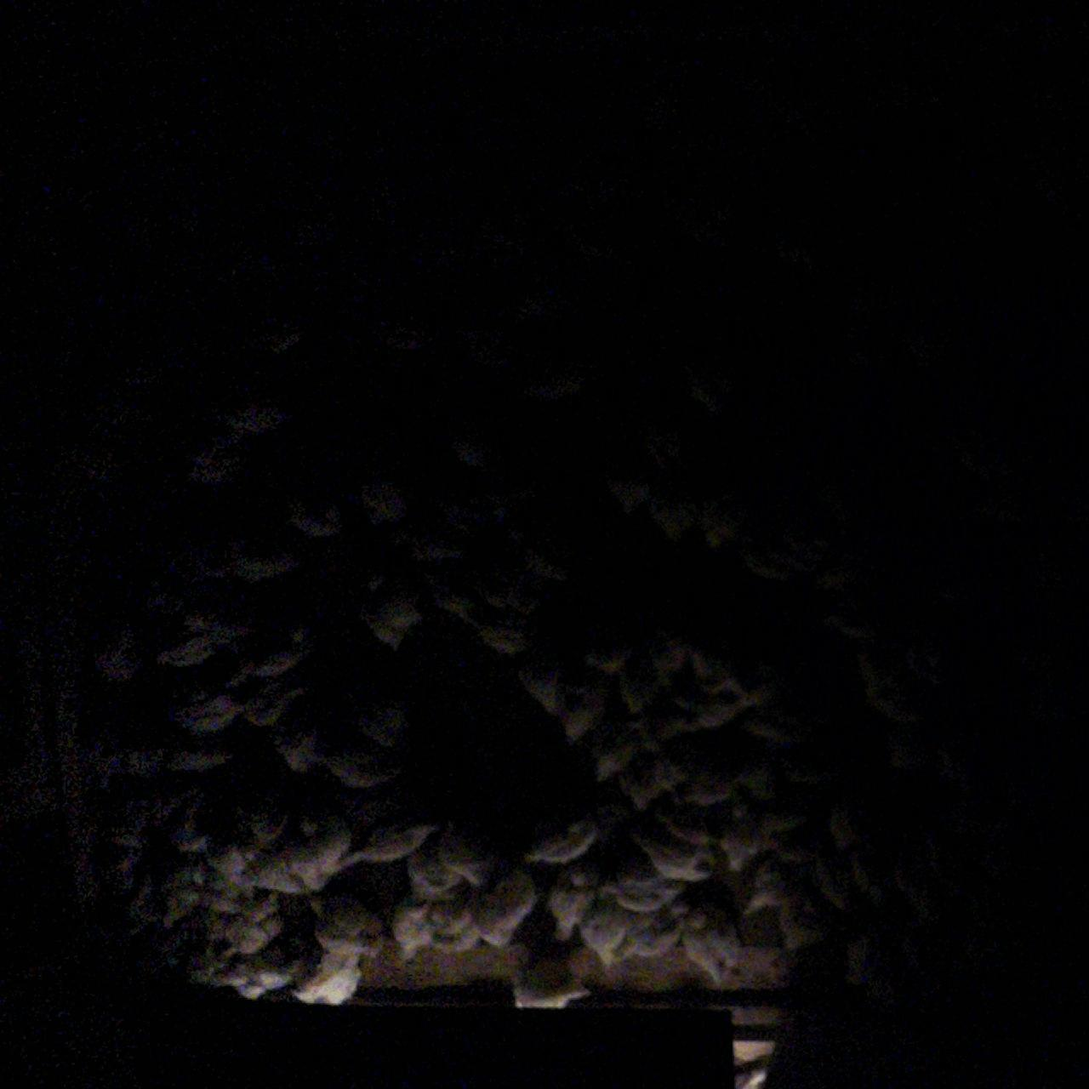chicken: (325, 808, 444, 874), (225, 625, 323, 691), (108, 743, 246, 786), (509, 939, 588, 1013), (718, 804, 800, 874), (286, 814, 358, 893), (629, 821, 717, 884), (308, 889, 389, 956), (540, 864, 607, 943), (207, 945, 301, 1001), (742, 849, 821, 914), (480, 865, 544, 945), (286, 945, 365, 1007), (217, 892, 285, 964), (699, 676, 787, 730), (855, 650, 920, 723), (523, 811, 607, 867), (94, 820, 150, 903), (898, 834, 953, 918), (680, 900, 738, 979), (387, 881, 443, 962), (157, 862, 227, 926), (125, 863, 182, 941), (577, 883, 631, 962), (318, 743, 405, 791), (428, 827, 501, 884), (241, 676, 314, 733), (164, 540, 244, 592), (169, 688, 249, 739), (621, 904, 692, 961), (737, 692, 817, 741), (470, 566, 541, 621), (774, 748, 850, 799), (176, 597, 261, 642), (557, 676, 614, 743), (942, 430, 1010, 486), (623, 752, 688, 810), (358, 593, 425, 649), (723, 943, 801, 991), (354, 693, 415, 754), (408, 837, 464, 903), (642, 619, 698, 685), (386, 515, 456, 567), (650, 484, 704, 551), (281, 487, 349, 540), (111, 792, 198, 833), (197, 837, 274, 883), (599, 867, 686, 907), (227, 539, 304, 582), (631, 411, 686, 471), (435, 897, 488, 959), (648, 704, 722, 748), (593, 715, 643, 780), (683, 360, 739, 418), (783, 885, 836, 946), (470, 481, 545, 524), (897, 933, 949, 995), (677, 755, 734, 811), (149, 624, 222, 667), (604, 462, 659, 519), (469, 616, 540, 660), (511, 537, 570, 589), (248, 851, 319, 894), (219, 390, 286, 435), (171, 796, 218, 860), (88, 615, 135, 679), (607, 650, 657, 710), (705, 488, 751, 553), (884, 720, 936, 777), (834, 843, 885, 901), (459, 320, 520, 368), (55, 442, 123, 484), (845, 929, 890, 991), (518, 657, 565, 716), (720, 750, 777, 798), (824, 604, 889, 646), (739, 536, 798, 582), (825, 788, 872, 845), (274, 723, 327, 773), (968, 498, 1028, 542), (428, 486, 488, 529), (289, 202, 341, 251), (582, 635, 630, 688), (187, 447, 249, 488), (374, 314, 442, 351), (901, 325, 950, 374), (430, 583, 485, 626), (358, 478, 408, 525), (445, 425, 495, 471), (804, 845, 842, 905), (249, 320, 307, 358), (935, 750, 978, 799), (530, 366, 591, 400), (431, 224, 476, 267), (94, 399, 154, 431), (523, 284, 580, 317), (477, 224, 525, 262), (690, 200, 729, 246), (769, 236, 812, 276), (562, 227, 607, 262), (646, 86, 685, 125), (115, 358, 167, 385)
